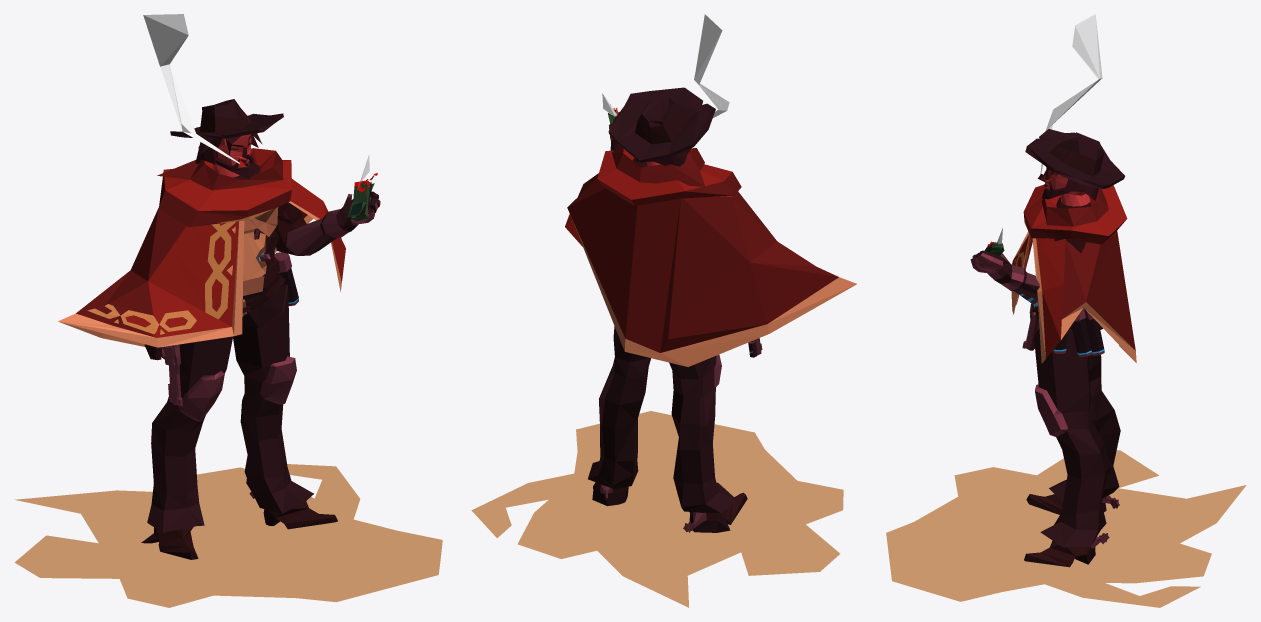
Rendered from mccree.obj.
The picture shows the model from 3 angles, left to right: view 1: azimuth 30°, elevation 25°; view 2: azimuth 150°, elevation 25°; view 3: azimuth 270°, elevation 25°; orthographic projection. The views are drawn at different scales.
Parts seen in each view (by area): view 1: Cylinder.001, mccree, Cylinder, Cube.001, GUN, Cylinder.002; view 2: Cylinder.001, mccree, Cylinder; view 3: Cylinder.001, mccree, Cylinder, Cylinder.003, Cylinder.004.
Part boxes in pixels (left/top/right/bottom): Cylinder.001: left=14, top=148, right=442, bottom=607; mccree: left=141, top=14, right=380, bottom=559; Cylinder: left=170, top=99, right=283, bottom=139; Cube.001: left=347, top=154, right=377, bottom=221; GUN: left=161, top=344, right=182, bottom=406; Cylinder.002: left=274, top=252, right=298, bottom=306; Cylinder.001: left=471, top=145, right=856, bottom=607; mccree: left=588, top=14, right=747, bottom=532; Cylinder: left=608, top=87, right=715, bottom=162; Cylinder.001: left=886, top=184, right=1246, bottom=607; mccree: left=970, top=14, right=1120, bottom=567; Cylinder: left=1025, top=129, right=1124, bottom=188; Cylinder.003: left=1071, top=308, right=1091, bottom=357; Cylinder.004: left=1087, top=312, right=1104, bottom=355.
Size of the model in its own units: 1.99 by 2.97 by 1.96.
